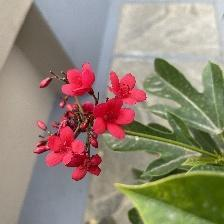jatropha: (87, 101, 138, 140)
